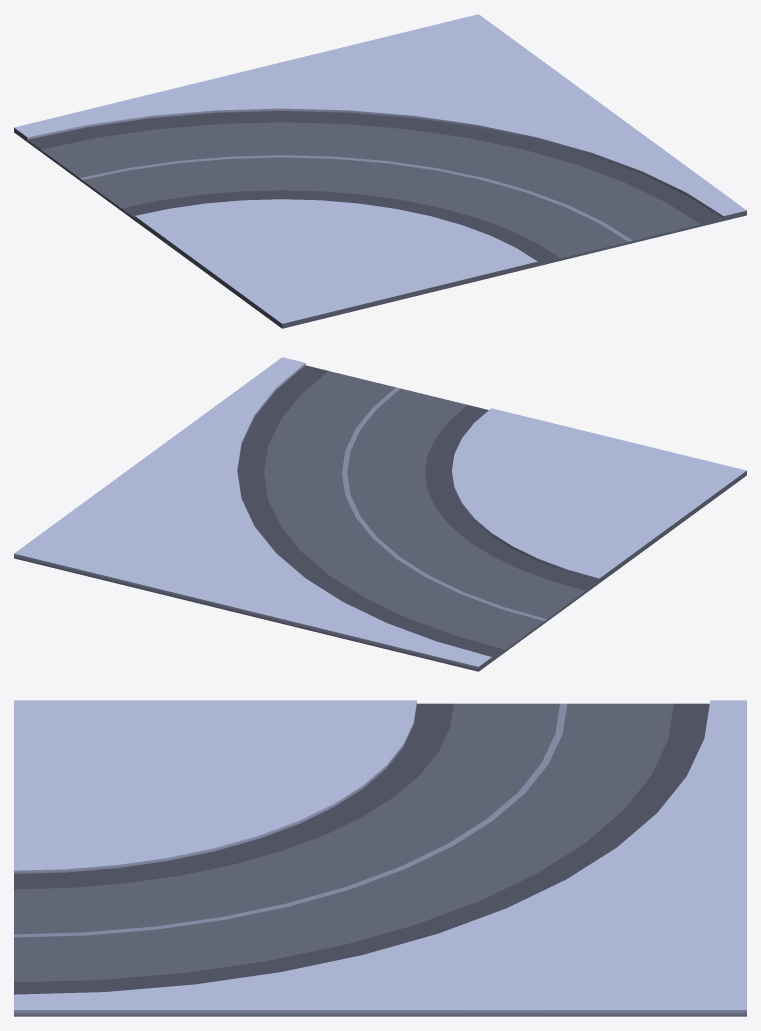
The model's file is road-curve-pavement.glb.
3 views of the same model, one above another, from view 1: azimuth 30°, elevation 25°; view 2: azimuth 150°, elevation 25°; view 3: azimuth 270°, elevation 25° (orthographic). The views are drawn at different scales.
Visible parts, largest first — view 1: road-curve-pavement; view 2: road-curve-pavement; view 3: road-curve-pavement.
Boxes of the visible parts, left/top/right/bottom form: road-curve-pavement: left=14, top=14, right=746, bottom=328; road-curve-pavement: left=14, top=357, right=746, bottom=671; road-curve-pavement: left=14, top=700, right=746, bottom=1016.
Bounding box in the file's own units: 2 × 0.02 × 2.
Materials: 1 (1 with a texture image).
